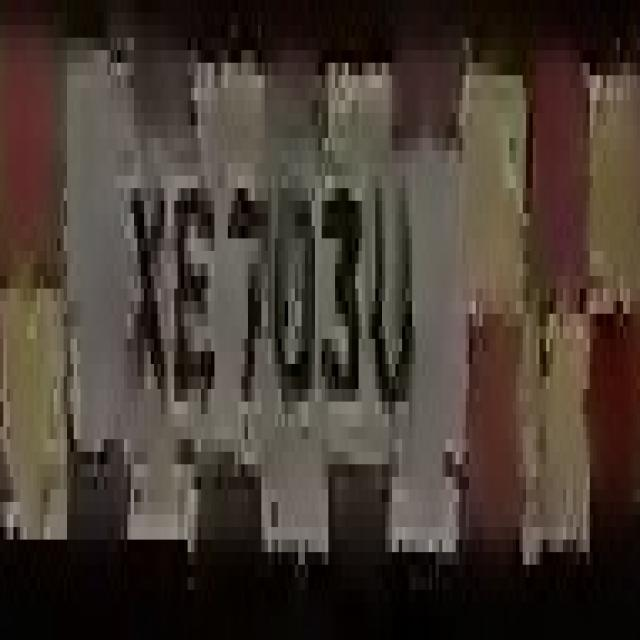0: (264, 151, 322, 439)
3: (318, 138, 366, 452)
7: (221, 138, 272, 427)
E: (168, 125, 215, 452)
U: (362, 126, 419, 427)
X: (117, 113, 178, 439)
